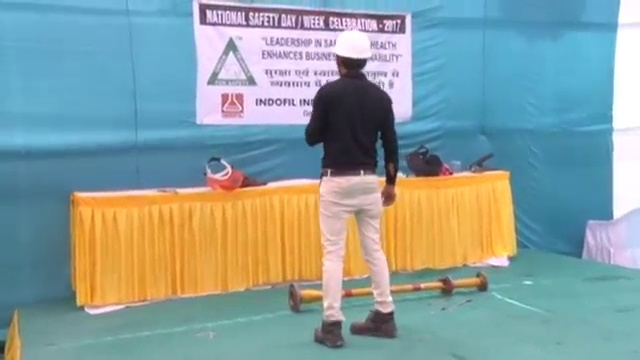helmet: (330, 28, 376, 62)
helmet_on: (330, 27, 376, 82)
person: (304, 29, 401, 347)
